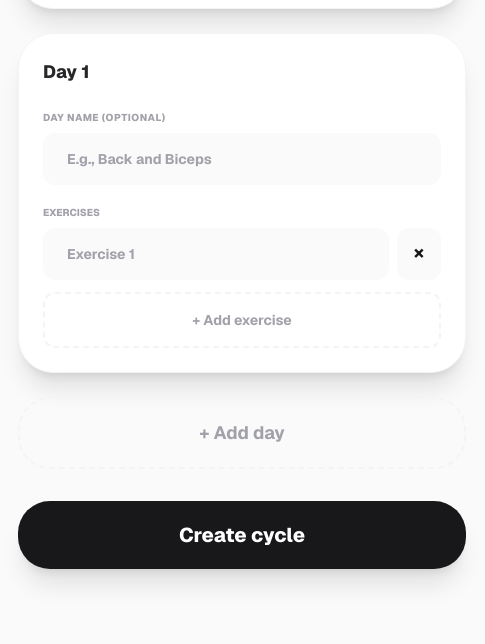
Test case: CycleFormView › refuses to save without a cycle name, showing an in-app message and focusing the field
(page scrolled)
What coordinates should you click on to do the following:
click the button "Create cycle"
I would click on:
 (242, 535)
Its box is x1=18 y1=501 x2=466 y2=569.
(page scrolled)
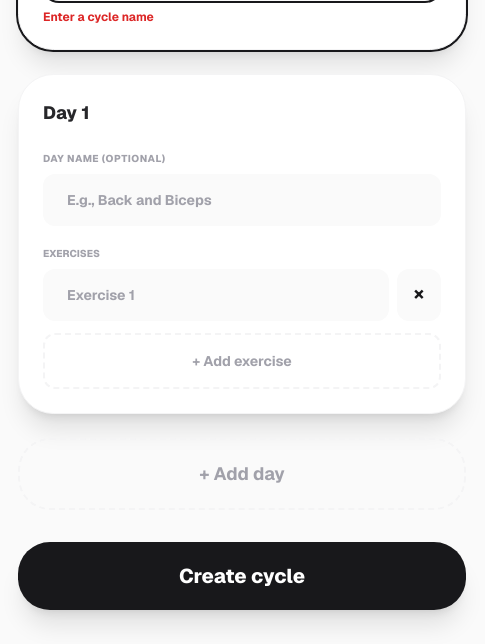
Now the text "Enter a cycle name" is shown, box x1=43 y1=9 x2=154 y2=25
